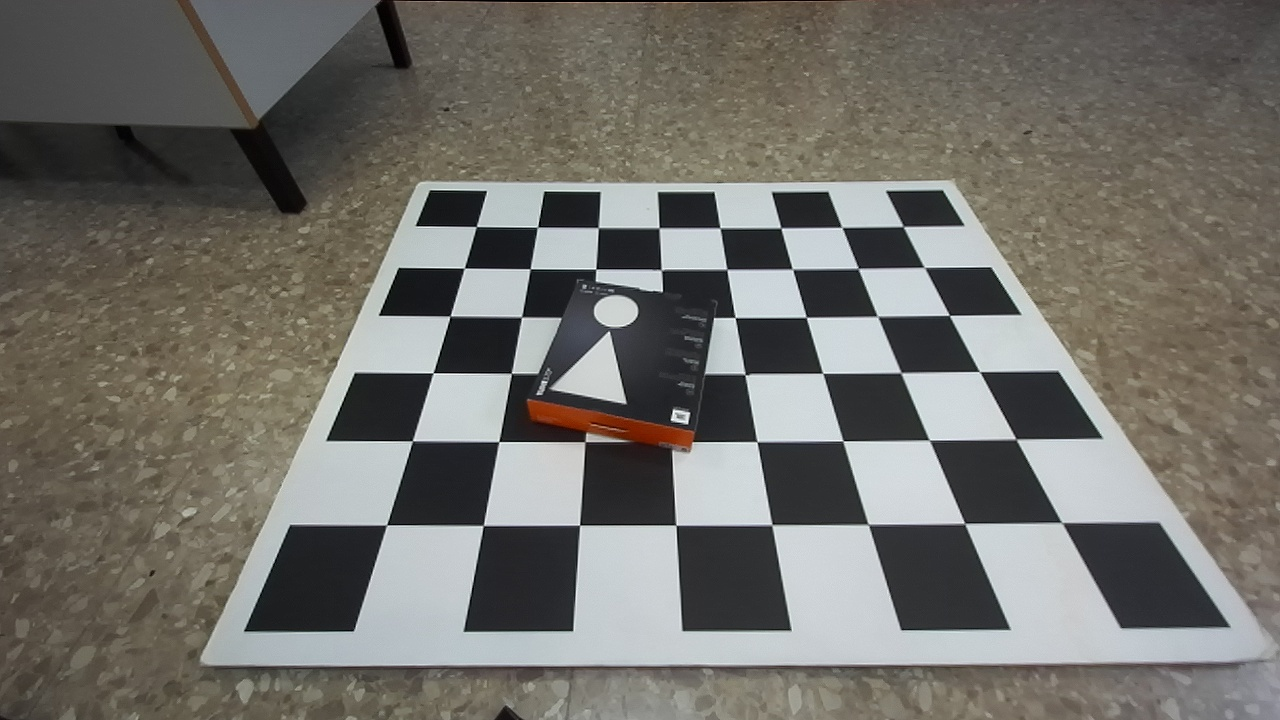caja_chasis: (526, 279, 716, 451)
